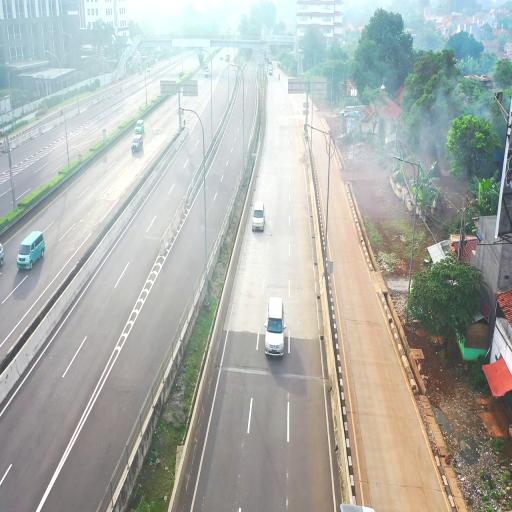vehicle: (265, 296, 285, 358), (17, 231, 44, 272), (252, 201, 264, 233), (132, 130, 144, 156)
